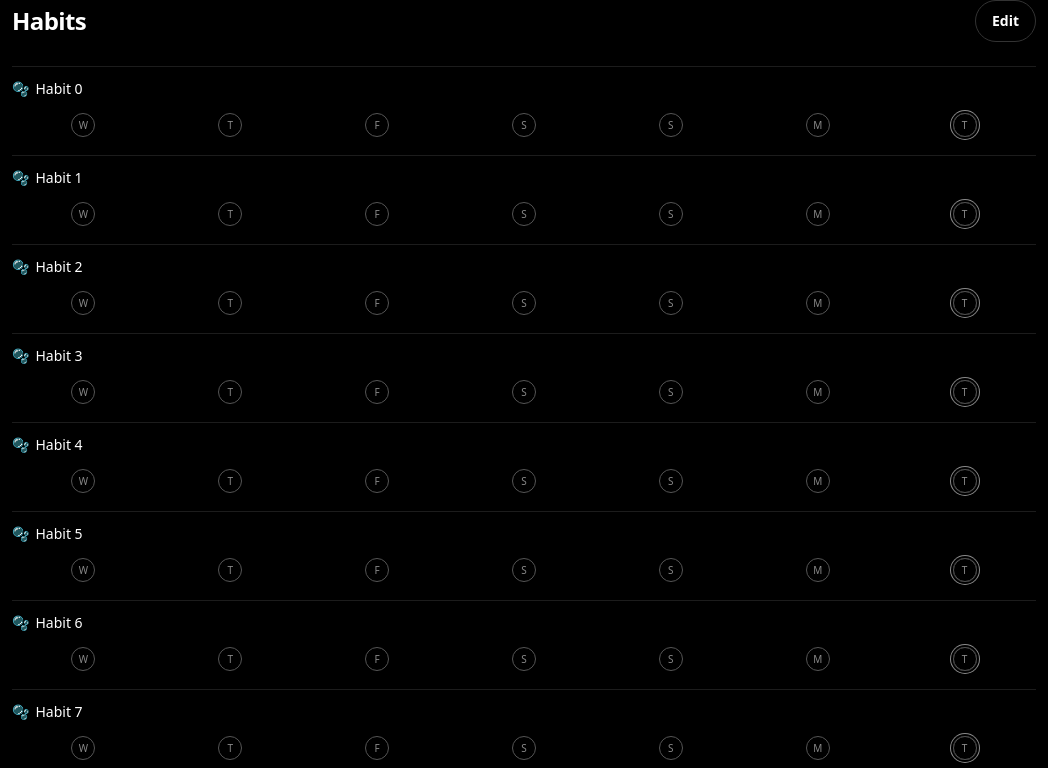
it: HabitsPage › stops offering the add form at 12
This screenshot has width=1048, height=768.
What coordinates should you click on to do the following:
click the button "Edit"
I would click on:
 (1005, 21)
Its box is [975,0,1036,42].
(page scrolled)
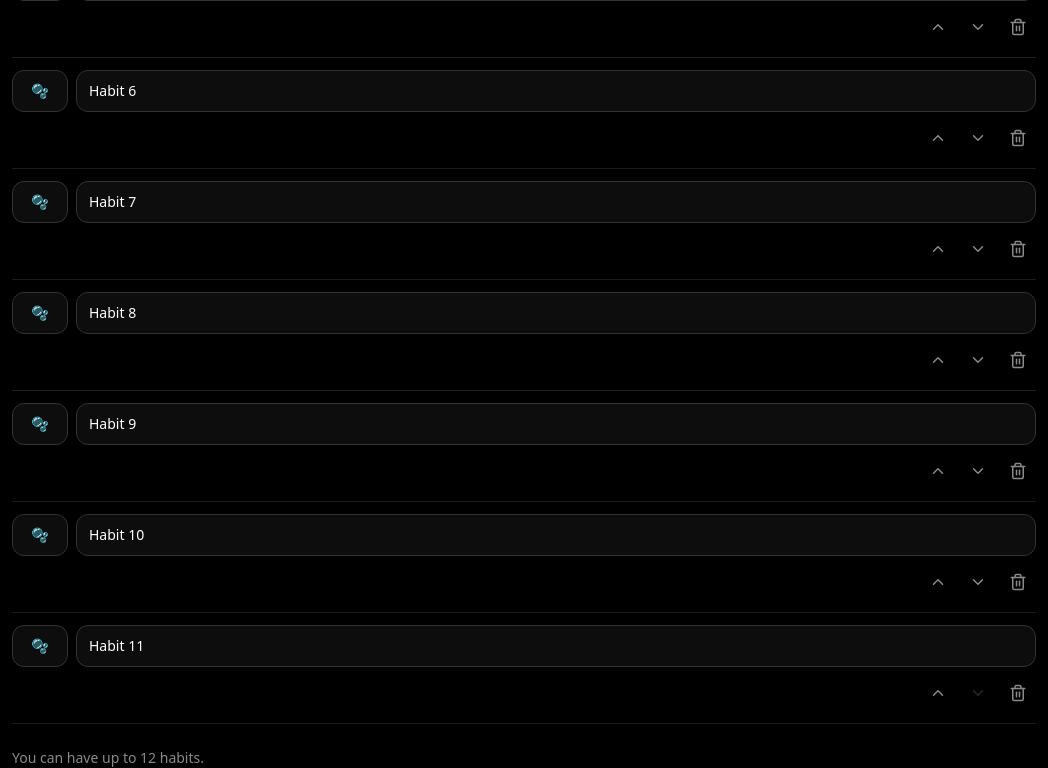
expect the text "You can have up to 12 habits." is shown: met, box [12,748,204,767]
